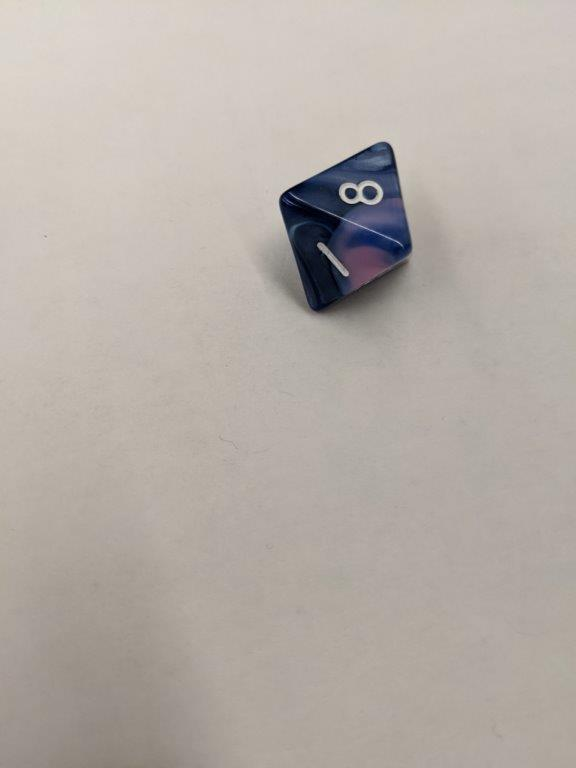d8-8: (280, 142, 413, 309)
